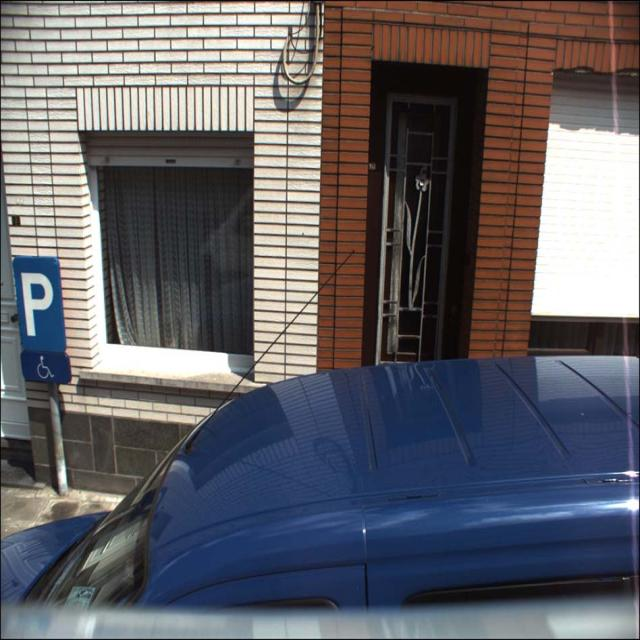park: (12, 256, 66, 351)
